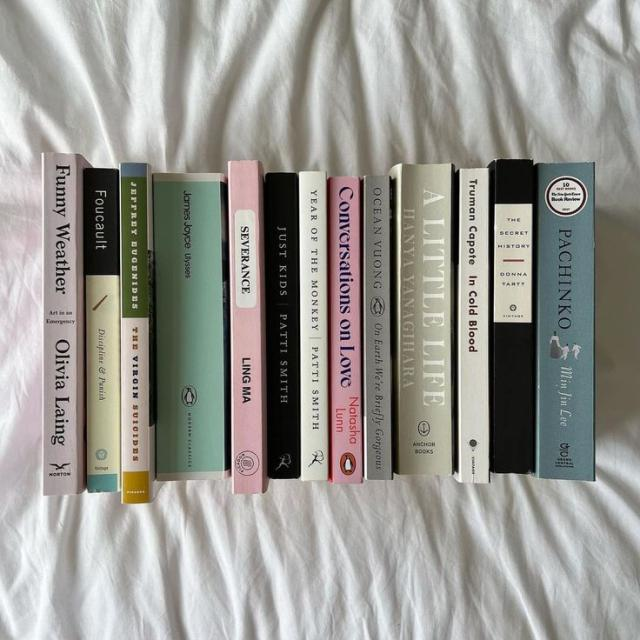book: (154, 172, 226, 481), (537, 162, 593, 479), (400, 165, 451, 474), (494, 160, 535, 472), (83, 169, 120, 492), (43, 155, 78, 494), (229, 160, 264, 495), (120, 162, 152, 503), (266, 172, 300, 479), (460, 168, 488, 482), (300, 171, 327, 479), (365, 176, 392, 480)
